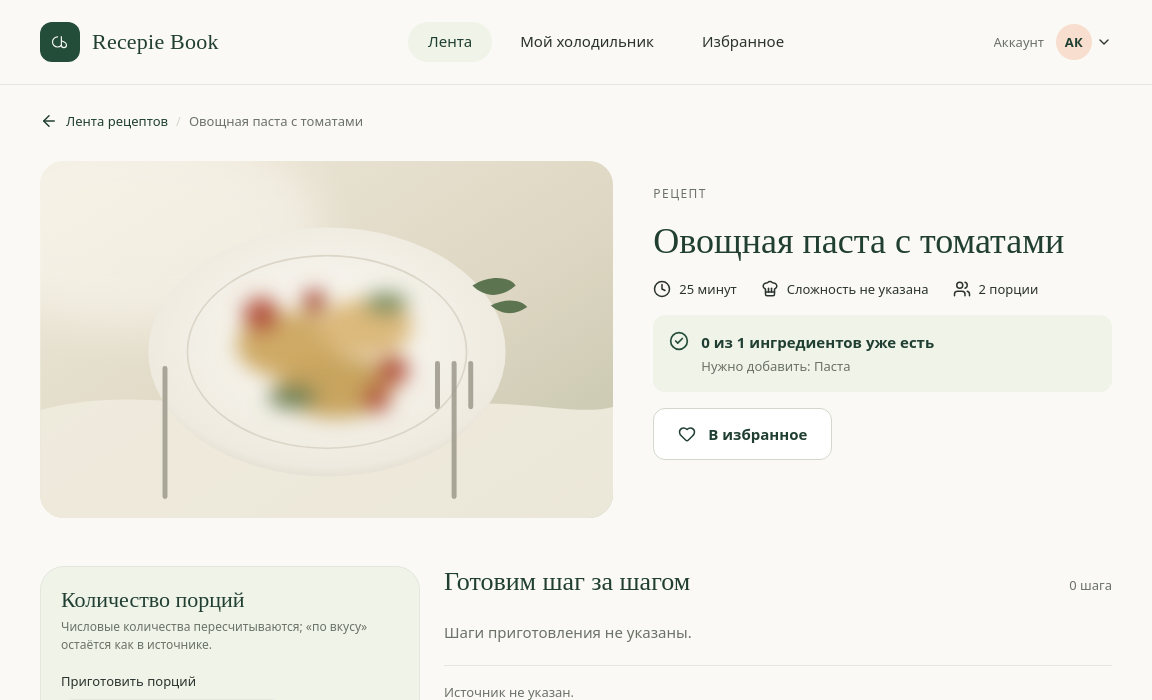
it: app routing › logs out from the header and returns to the login screen
Click the button with aria-label "Выйти". click: (1084, 42)
box: [1056,20,1112,64]
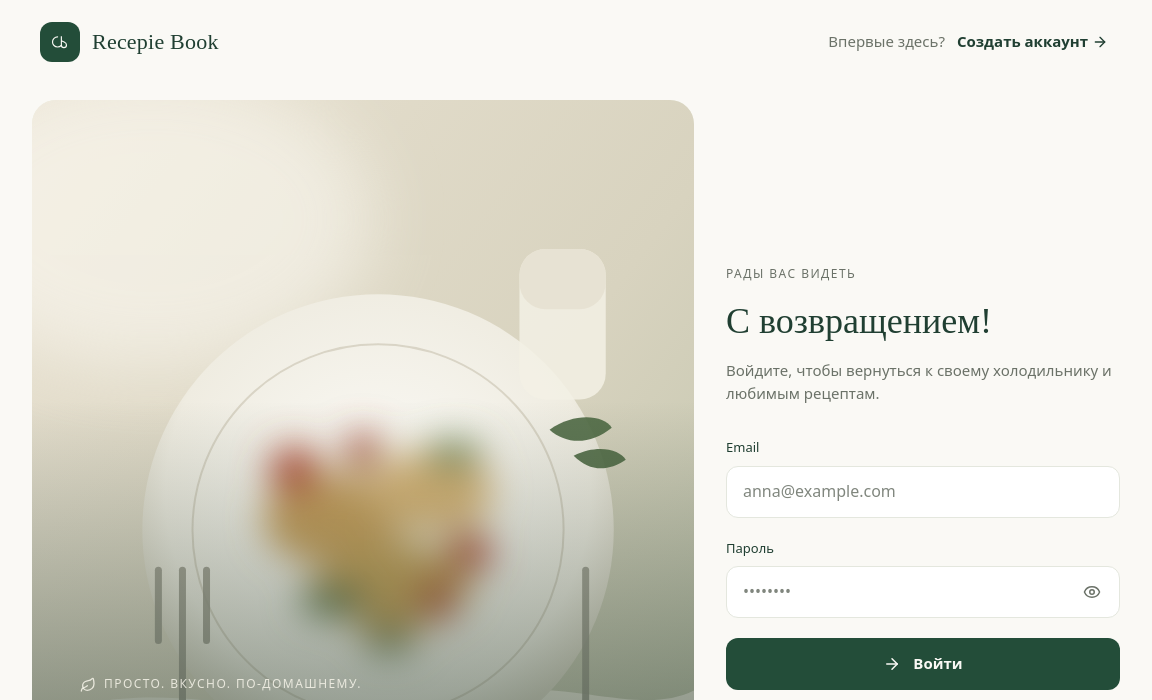
Now the heading "С возвращением!" is shown, box [726,301,992,341]
